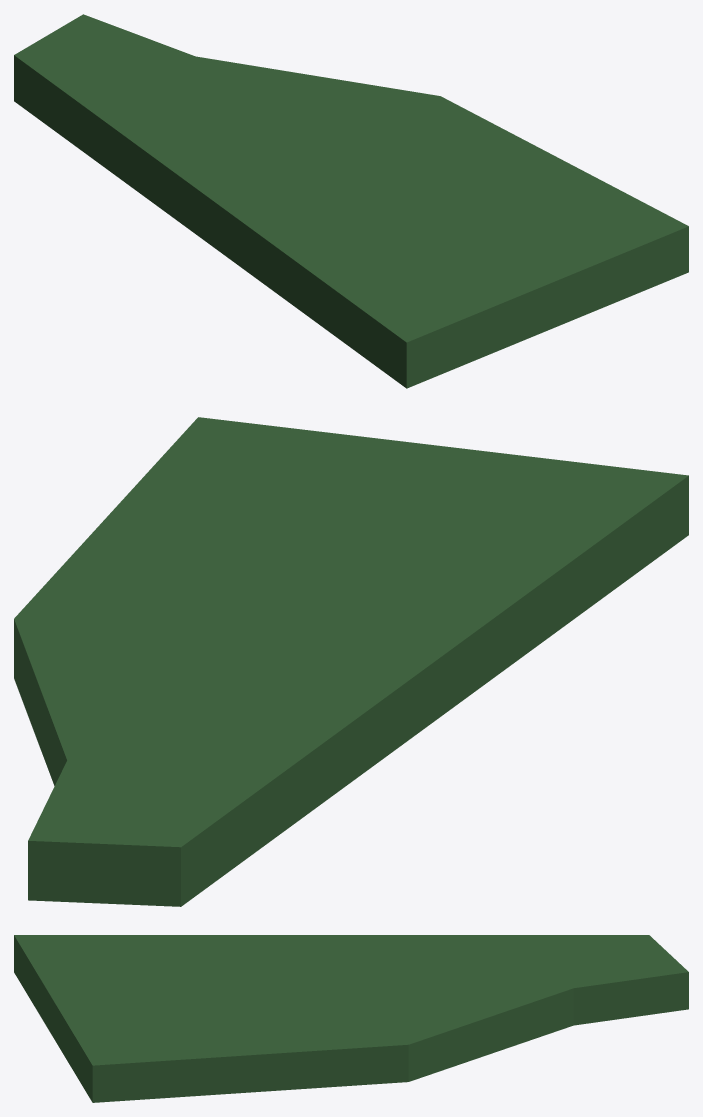
The model's file is x_proval_00_53_1_rmstrd_mirror.fbx.
3 views of the same model, one above another, from view 1: azimuth 30°, elevation 25°; view 2: azimuth 150°, elevation 25°; view 3: azimuth 270°, elevation 25° (orthographic). The views are drawn at different scales.
Visible parts, largest first — view 1: x_proval_00_53_1_rmstrd_mirror1; view 2: x_proval_00_53_1_rmstrd_mirror1; view 3: x_proval_00_53_1_rmstrd_mirror1.
Part boxes in pixels (x1,y1,x2,y2): x_proval_00_53_1_rmstrd_mirror1: [14, 14, 688, 388]; x_proval_00_53_1_rmstrd_mirror1: [14, 417, 688, 906]; x_proval_00_53_1_rmstrd_mirror1: [14, 935, 688, 1102].
Size of the model in its own units: 1.5 by 0.2 by 3.28.
